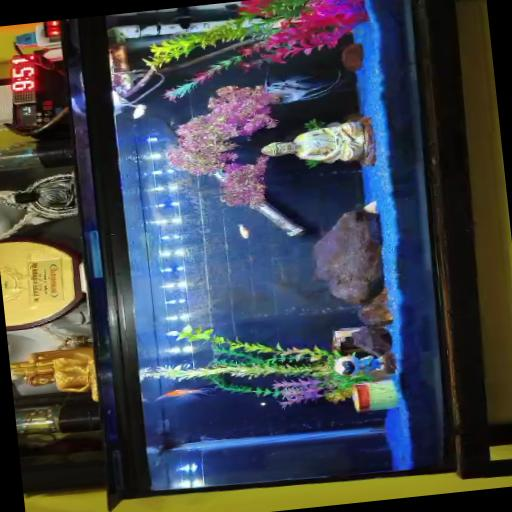Fish: (265, 71, 341, 103), (157, 387, 213, 399), (240, 223, 250, 237)
